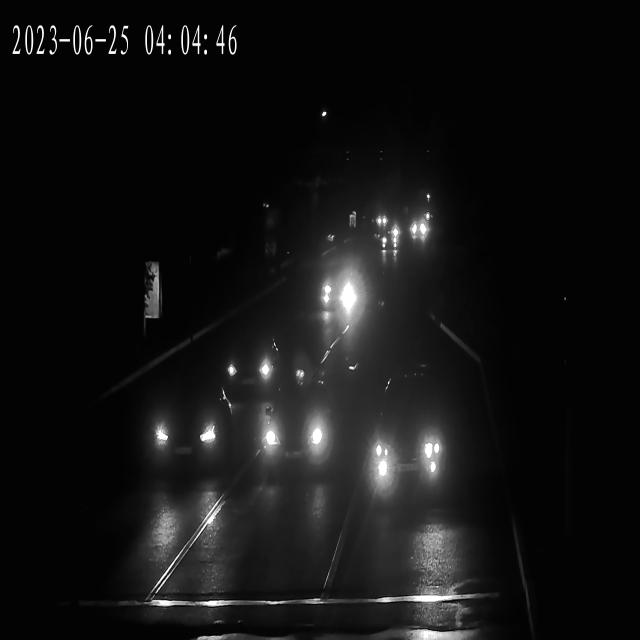Car: (359, 379, 451, 484), (139, 381, 233, 473), (250, 392, 332, 472), (224, 329, 316, 392), (221, 332, 278, 388), (320, 269, 364, 313), (408, 220, 430, 240), (376, 233, 397, 252), (380, 234, 400, 253), (372, 213, 390, 228)
